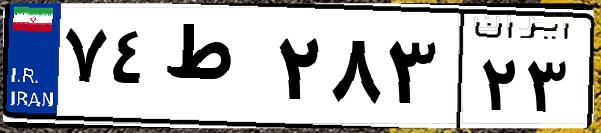2: (270, 28, 330, 110), (475, 38, 525, 113)
3: (385, 28, 445, 110), (525, 38, 570, 115)
4: (110, 28, 158, 98)
7: (57, 26, 110, 100)
8: (330, 28, 385, 110)
ط: (158, 20, 270, 120)
